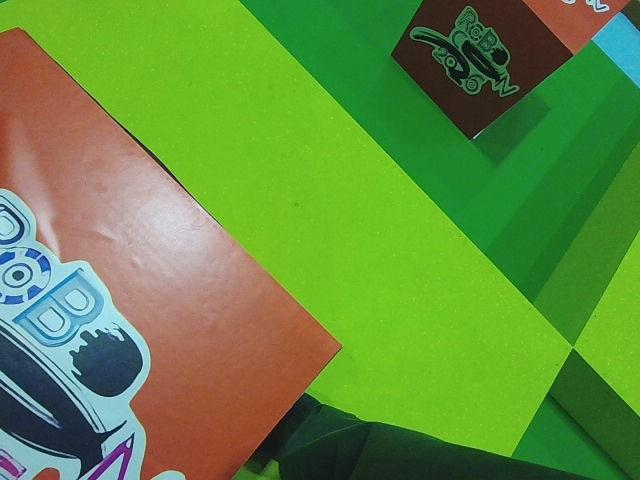R1: (1, 25, 341, 480), (390, 0, 635, 142)
